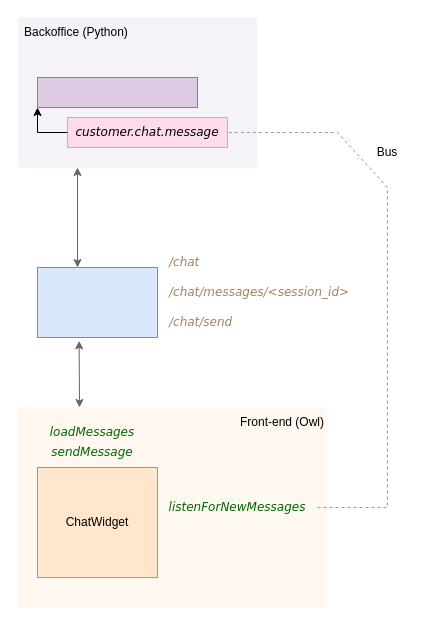
Image size: 434x624. Some labels were removed from this diagram. The centre of each missing label's shape, as x and y in pixels:
customer.chat.session: (117,92)
REST APIs: (97,302)
